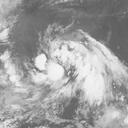cyclone: (34, 29, 111, 103)
